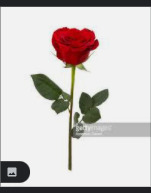RedRose: (44, 22, 105, 75)
